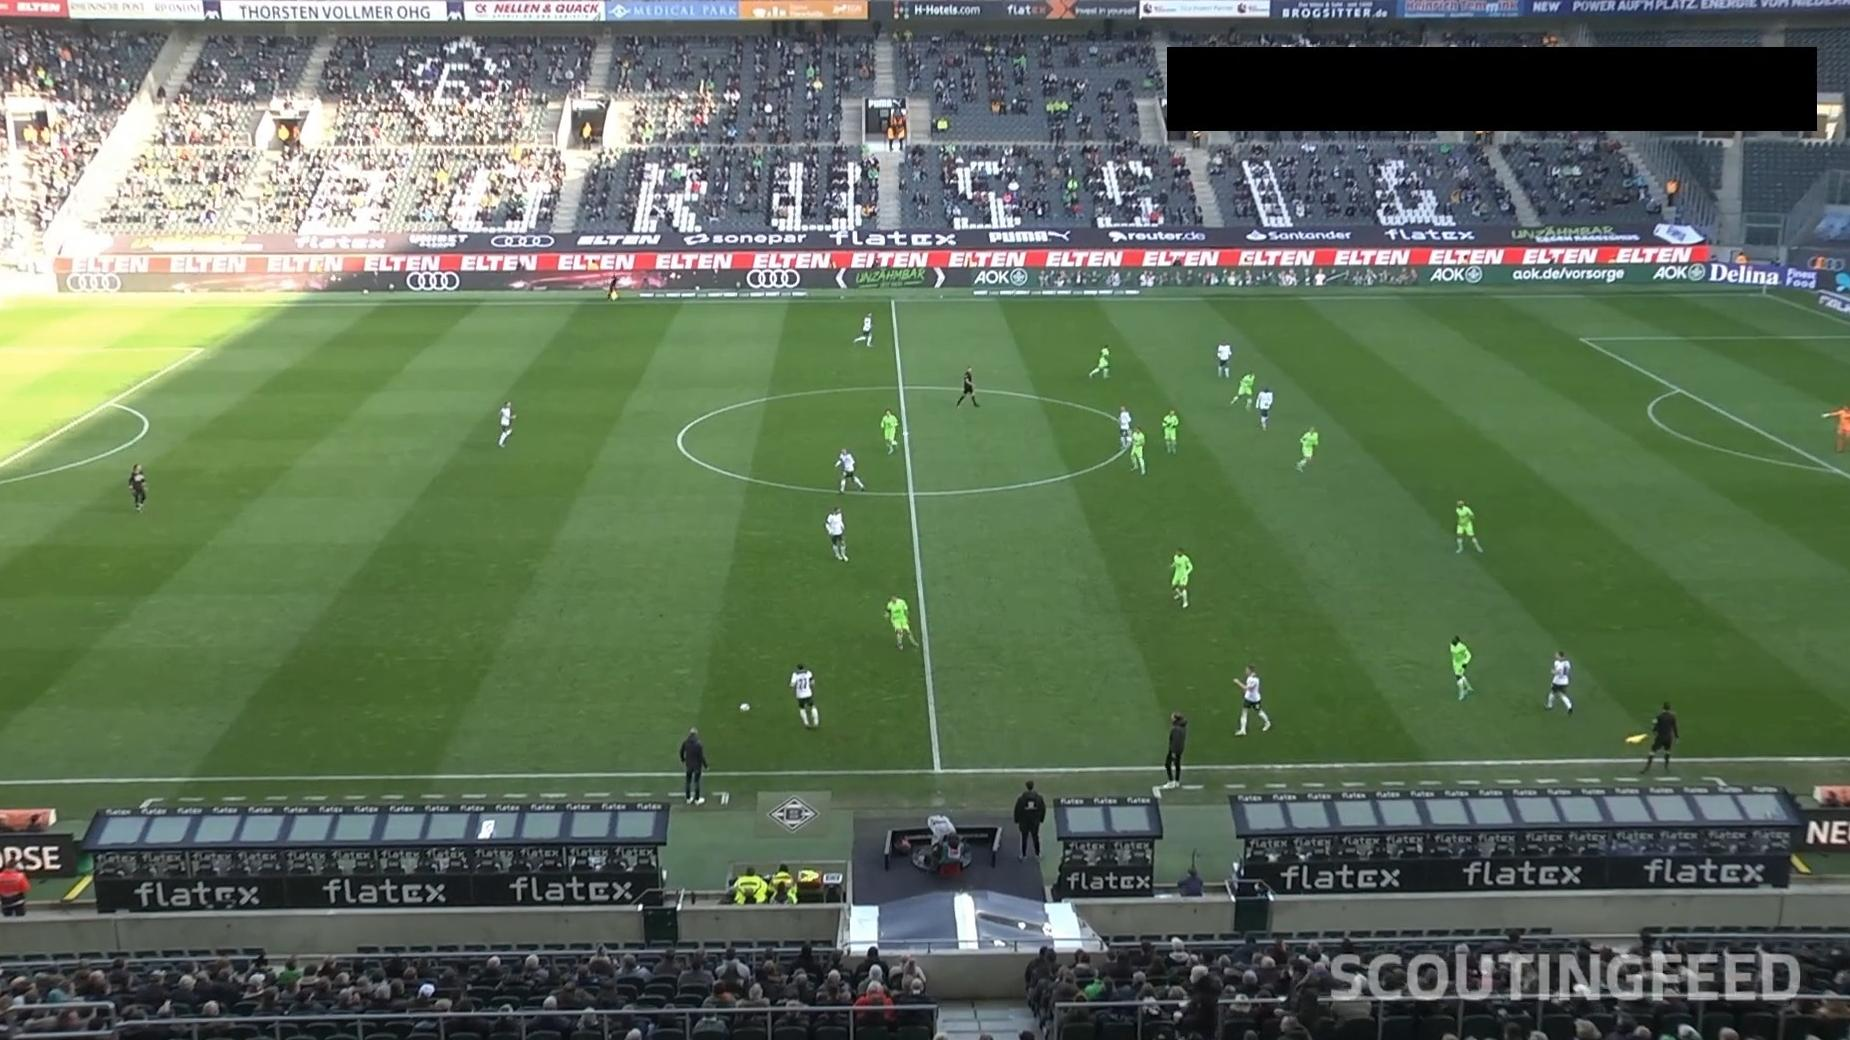ball: (738, 701, 752, 714)
